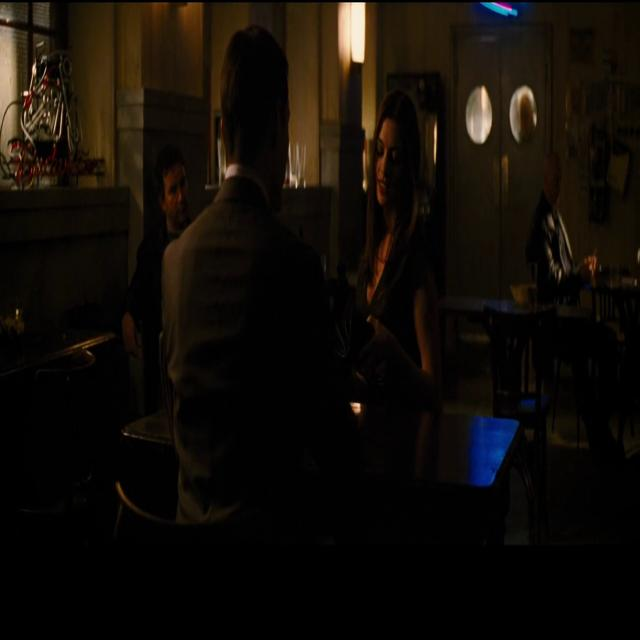People: (177, 15, 318, 640), (357, 45, 436, 406), (119, 145, 194, 383), (519, 116, 580, 386)
